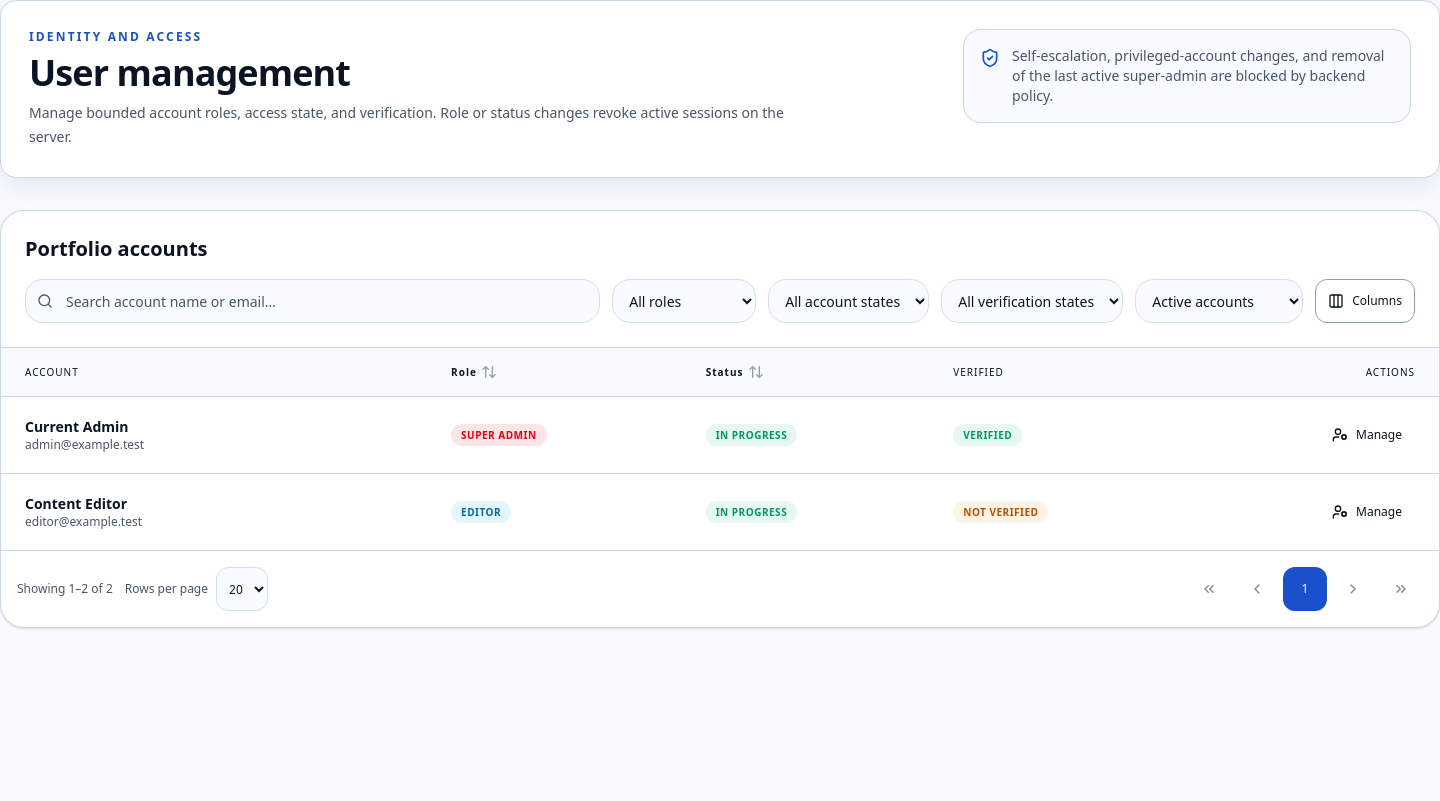
Test: user management workspace › keeps the page behind users:manage and hides privileged edits from admins
The image size is (1440, 801).
Check: the text "Current Admin" is shown, box [25,417,128,436]
Click the button named "Manage Current Admin" at (1367, 435), box [1319,413,1415,457]
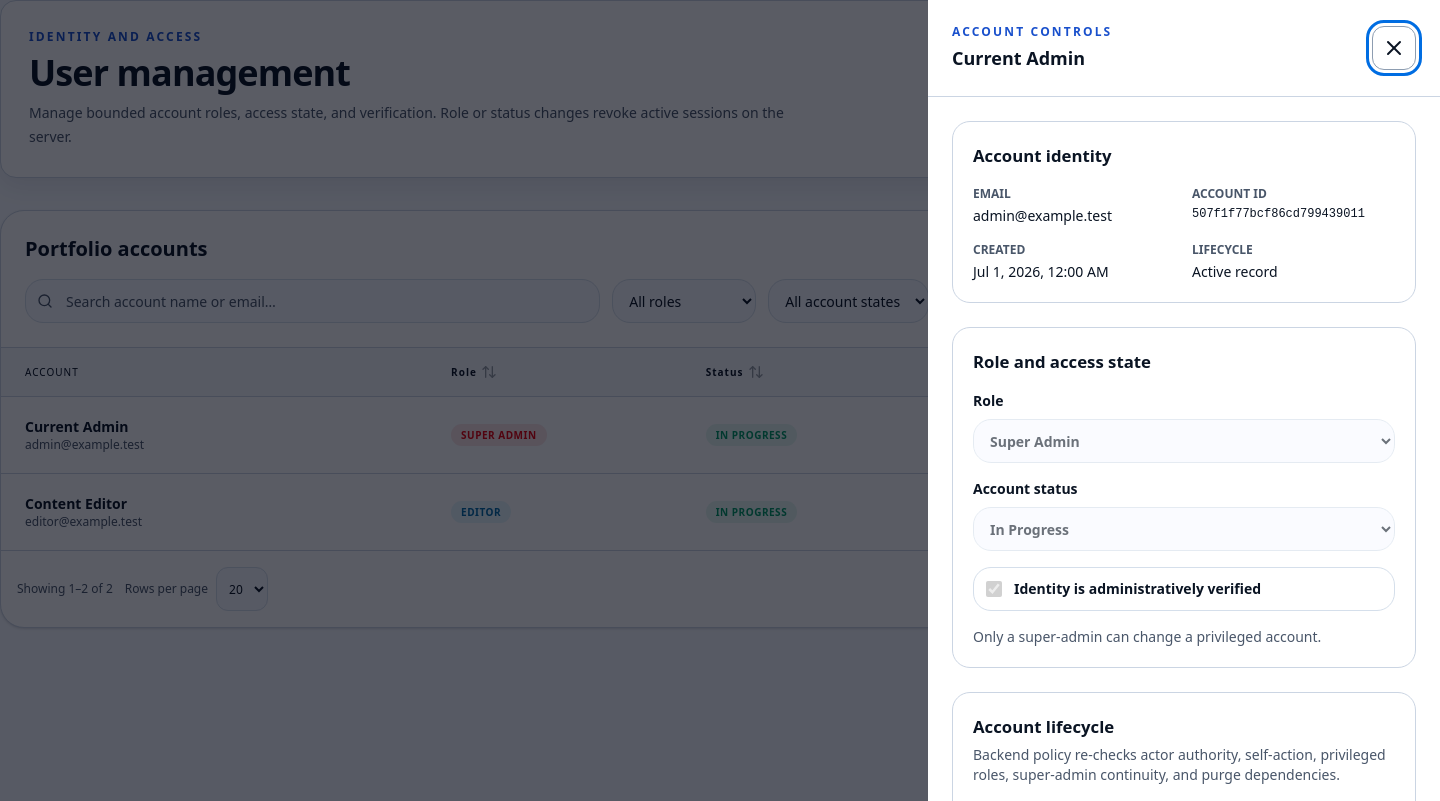
Check: the dropdown labelled "Role" is disabled, box [973,419,1395,463]
Check: the dialog "Current Admin" shows "Only a super-admin can change a privileged account.", box [973,627,1321,646]
